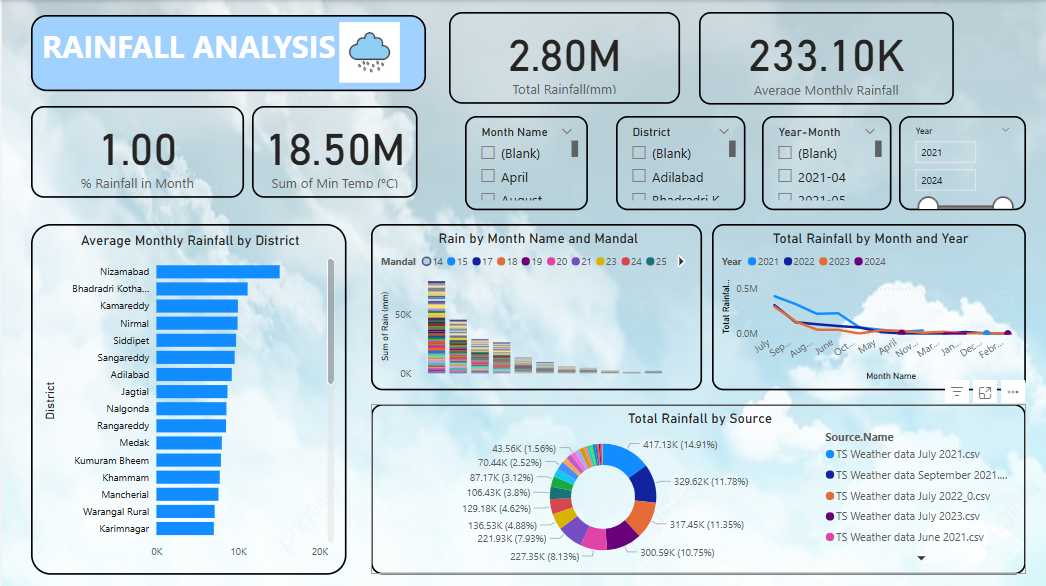

What the dashboard file says about the page in this screenshot:
{"tool":"powerbi","page":{"name":"Rainfall Analysis","canvas":[1280,720],"ordinal":0},"visuals":[{"type":"clusteredBarChart","fields":{"Y":["Weather_Data.Average Monthly Rainfall"],"Category":["Weather_Data.District"]},"box":[35.4,272.8,384.9,427.6],"z":0},{"type":"columnChart","title":"Rain by Month Name and Mandal","fields":{"Category":["Weather_Data.Month Name"],"Series":["Weather_Data.Mandal"],"Y":["Sum(Weather_Data.Rain (mm))"]},"box":[449.9,272.9,404.5,203],"z":1000},{"type":"card","fields":{"Values":["Weather_Data.Total Rainfall(mm)"]},"box":[545.6,14.7,281.7,112.1],"z":2000},{"type":"card","fields":{"Values":["Weather_Data.Average Monthly Rainfall"]},"box":[850.3,14.4,310.5,112.7],"z":3000},{"type":"card","fields":{"Values":["Weather_Data.% Rainfall in Month"]},"box":[35.4,129.8,259.5,112.1],"z":4000},{"type":"card","fields":{"Values":["Sum(Weather_Data.Min Temp (°C))"]},"box":[305.3,129.8,202,112.1],"z":5000},{"type":"lineChart","title":"Total Rainfall by Month and Year","fields":{"Category":["Weather_Data.Month Name"],"Y":["Weather_Data.Total Rainfall(mm)"],"Series":["Weather_Data.Year"]},"box":[865.8,272.9,383.4,203],"z":6000},{"type":"slicer","fields":{"Values":["Weather_Data.Year"]},"box":[1094.2,141.6,154.8,115],"z":7000},{"type":"donutChart","title":"Total Rainfall by Source","fields":{"Category":["Weather_Data.Source.Name"],"Y":["Weather_Data.Total Rainfall(mm)"]},"box":[449.8,492.5,799.3,207.9],"z":8000},{"type":"slicer","fields":{"Values":["Weather_Data.District"]},"box":[748.8,141.3,157.6,115.3],"z":9000},{"type":"slicer","fields":{"Values":["Weather_Data.Month Name"]},"box":[564.8,141.6,150.4,115],"z":10000},{"type":"slicer","fields":{"Values":["Calendar.Year-Month"]},"box":[927.5,141.3,157.6,115.3],"z":11000},{"type":"textbox","box":[35.4,17.7,482.2,92.9],"z":12000},{"type":"image","box":[346.5,22.1,205,84.1],"z":13000}]}

Visuals, with their boxes in screenshot pixels (x1, y1, x2, y2), scaled from the page's 1280x720 canvas onto the 1046x586 screenshot:
clusteredBarChart - Weather_Data.Average Monthly Rainfall x Weather_Data.District: bbox=(29, 222, 343, 570)
"Rain by Month Name and Mandal" columnChart: bbox=(368, 222, 698, 387)
card - Weather_Data.Total Rainfall(mm): bbox=(446, 12, 676, 103)
card - Weather_Data.Average Monthly Rainfall: bbox=(695, 12, 949, 103)
card - Weather_Data.% Rainfall in Month: bbox=(29, 106, 241, 197)
card - Sum(Weather_Data.Min Temp (°C)): bbox=(249, 106, 415, 197)
"Total Rainfall by Month and Year" lineChart: bbox=(708, 222, 1021, 387)
slicer - Weather_Data.Year: bbox=(894, 115, 1021, 209)
"Total Rainfall by Source" donutChart: bbox=(368, 401, 1021, 570)
slicer - Weather_Data.District: bbox=(612, 115, 741, 209)
slicer - Weather_Data.Month Name: bbox=(462, 115, 584, 209)
slicer - Calendar.Year-Month: bbox=(758, 115, 887, 209)
textbox: bbox=(29, 14, 423, 90)
image: bbox=(283, 18, 451, 86)
